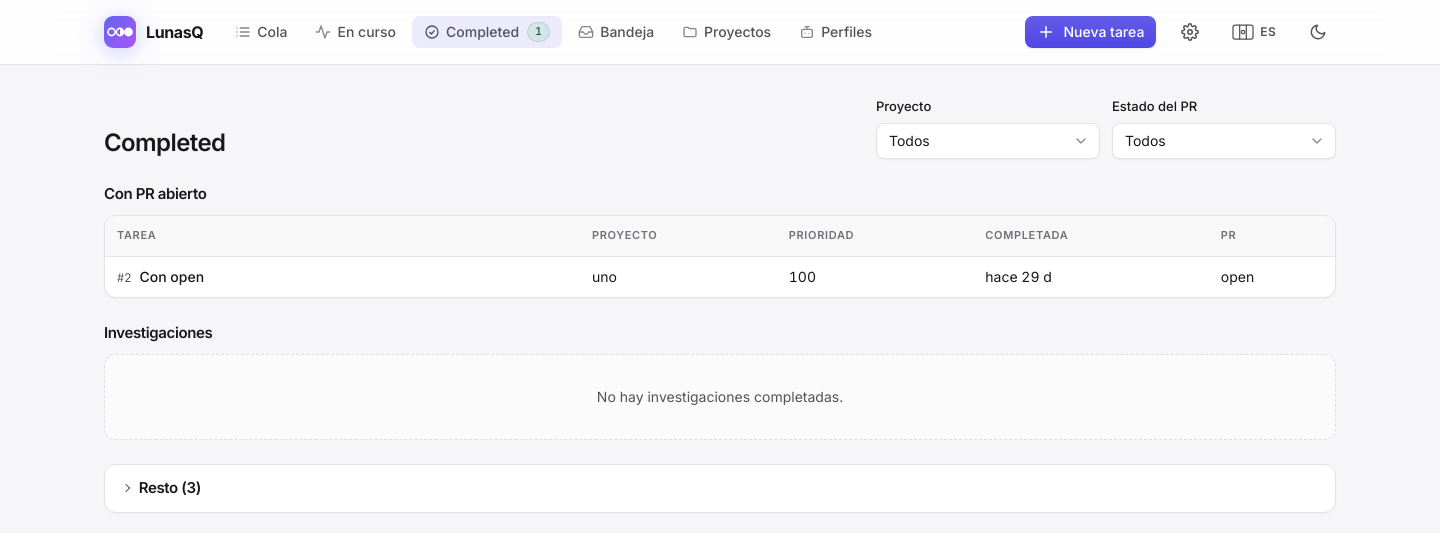
Completed tab › PR state filter › shows only the tasks with the chosen PR state
Expected: the link "Con open" is shown, [139, 266, 204, 286]
Select "merged" in the dropdown labelled "Estado del PR" at (1224, 140), box [1112, 122, 1336, 158]
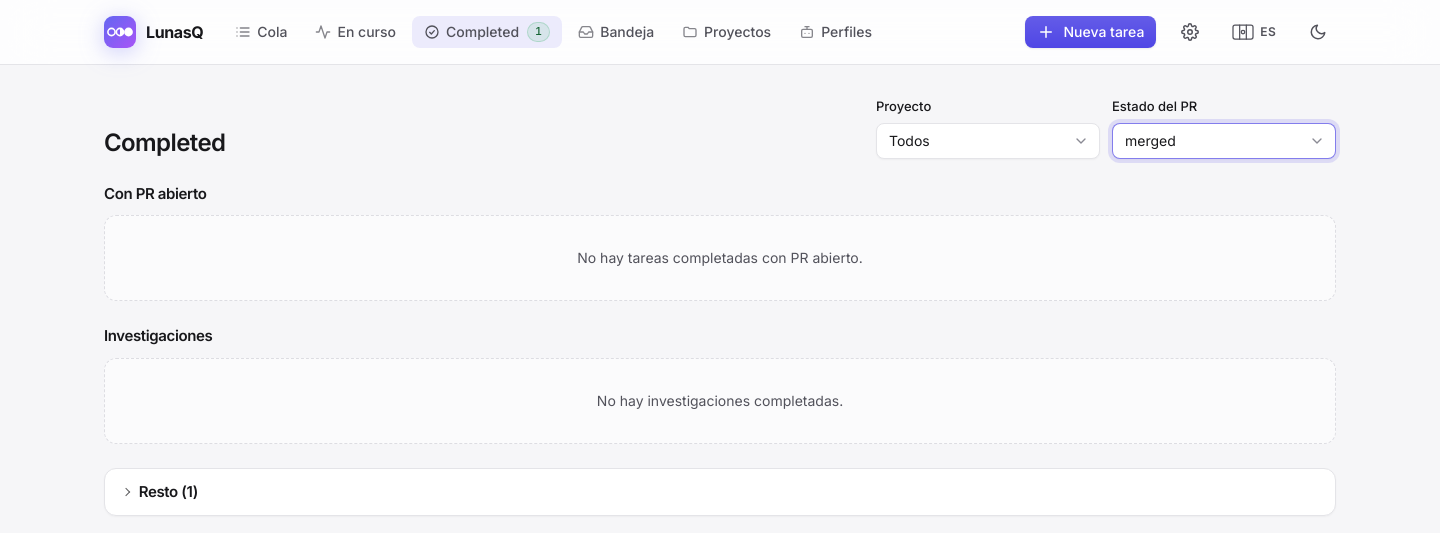
Expected: the link "Con open" is gone
